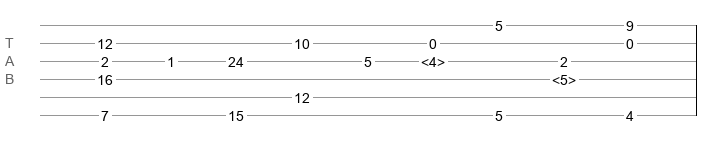0: (429, 36, 437, 46), (626, 36, 634, 46)
1: (167, 54, 175, 64)
10: (294, 36, 310, 46)
12: (97, 36, 113, 46), (294, 90, 310, 100)
15: (228, 108, 244, 118)
16: (97, 72, 113, 82)
2: (101, 54, 109, 64), (560, 54, 568, 64)
24: (228, 54, 244, 64)
4: (626, 108, 634, 118)
5: (364, 54, 372, 64), (495, 108, 503, 118), (495, 18, 503, 28)
7: (101, 108, 109, 118)
9: (626, 18, 634, 28)
harmonic: (421, 54, 445, 64), (552, 72, 576, 82)
